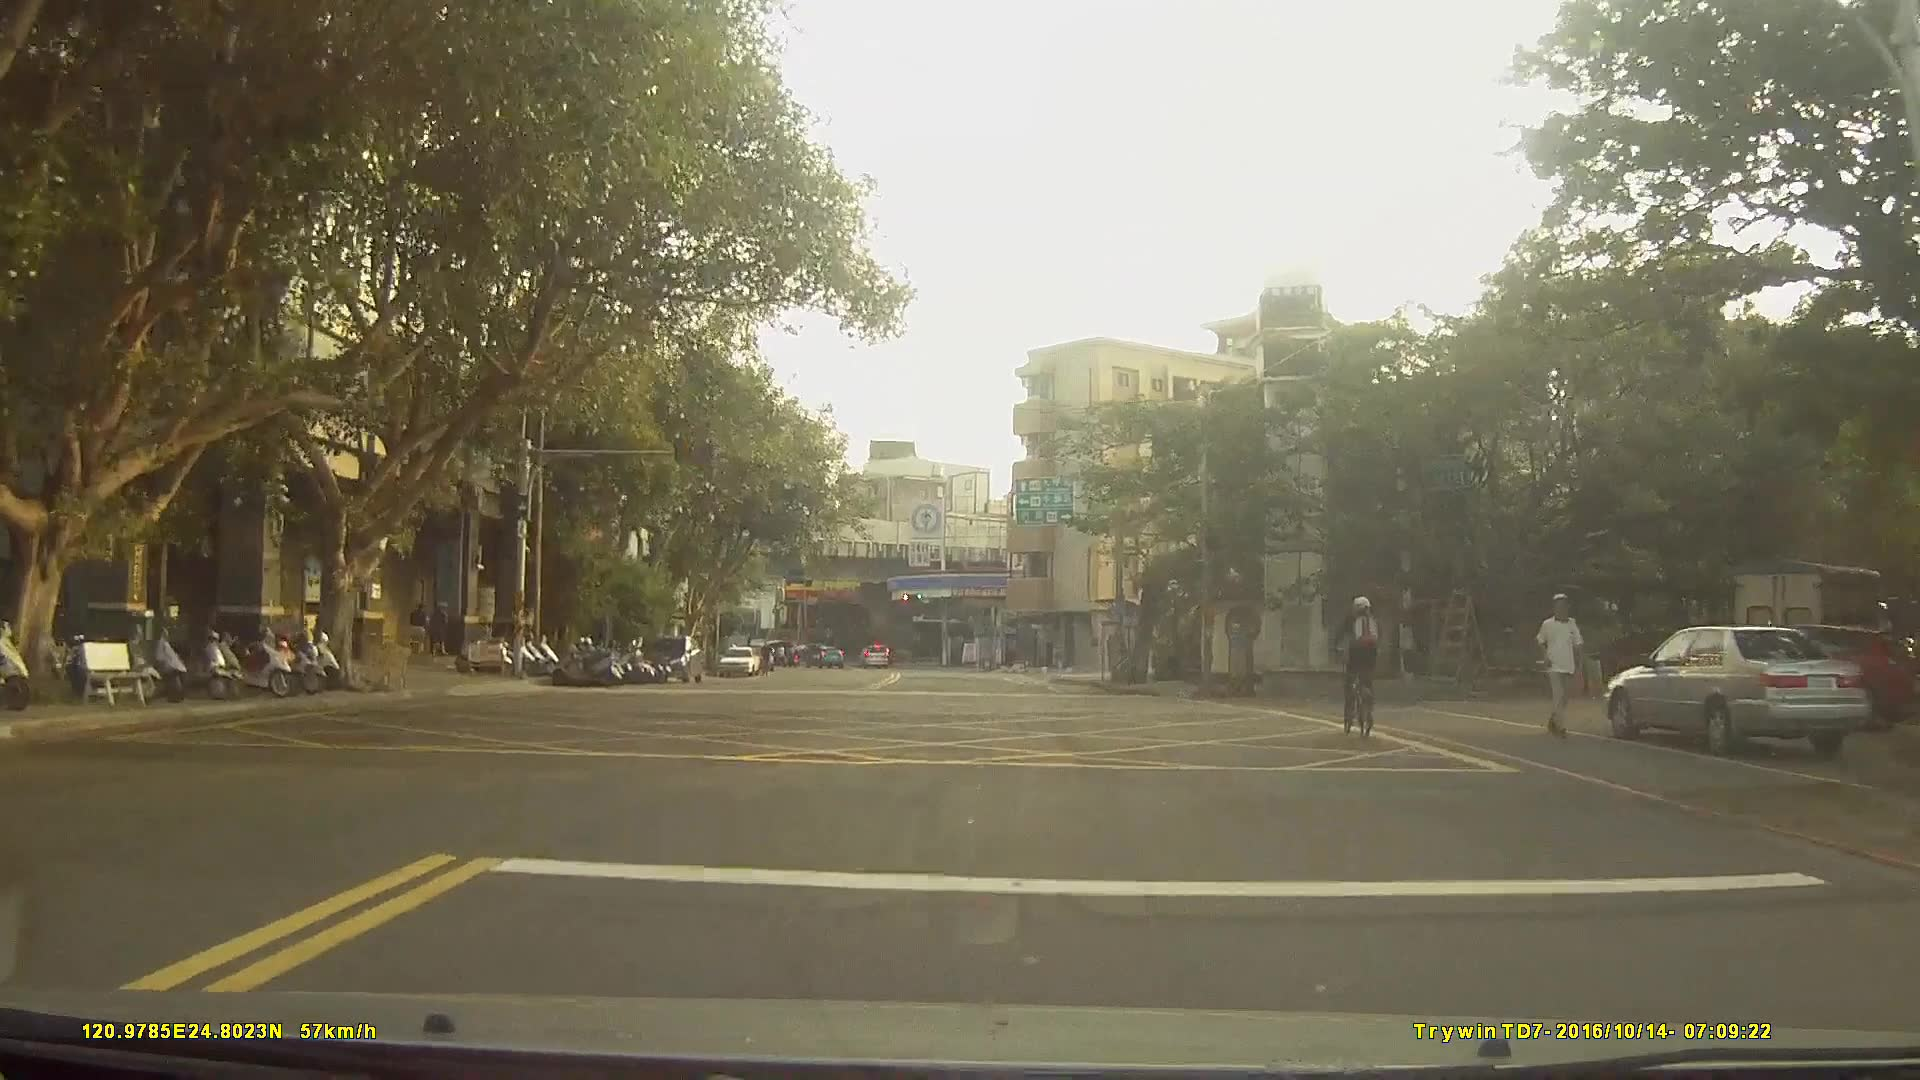pedestrian: (1529, 584, 1593, 741), (408, 599, 433, 657)
rider: (1332, 594, 1390, 734)
vehicle: (1604, 623, 1874, 758), (643, 631, 705, 682), (719, 643, 760, 676), (805, 642, 845, 666), (857, 642, 892, 668)
